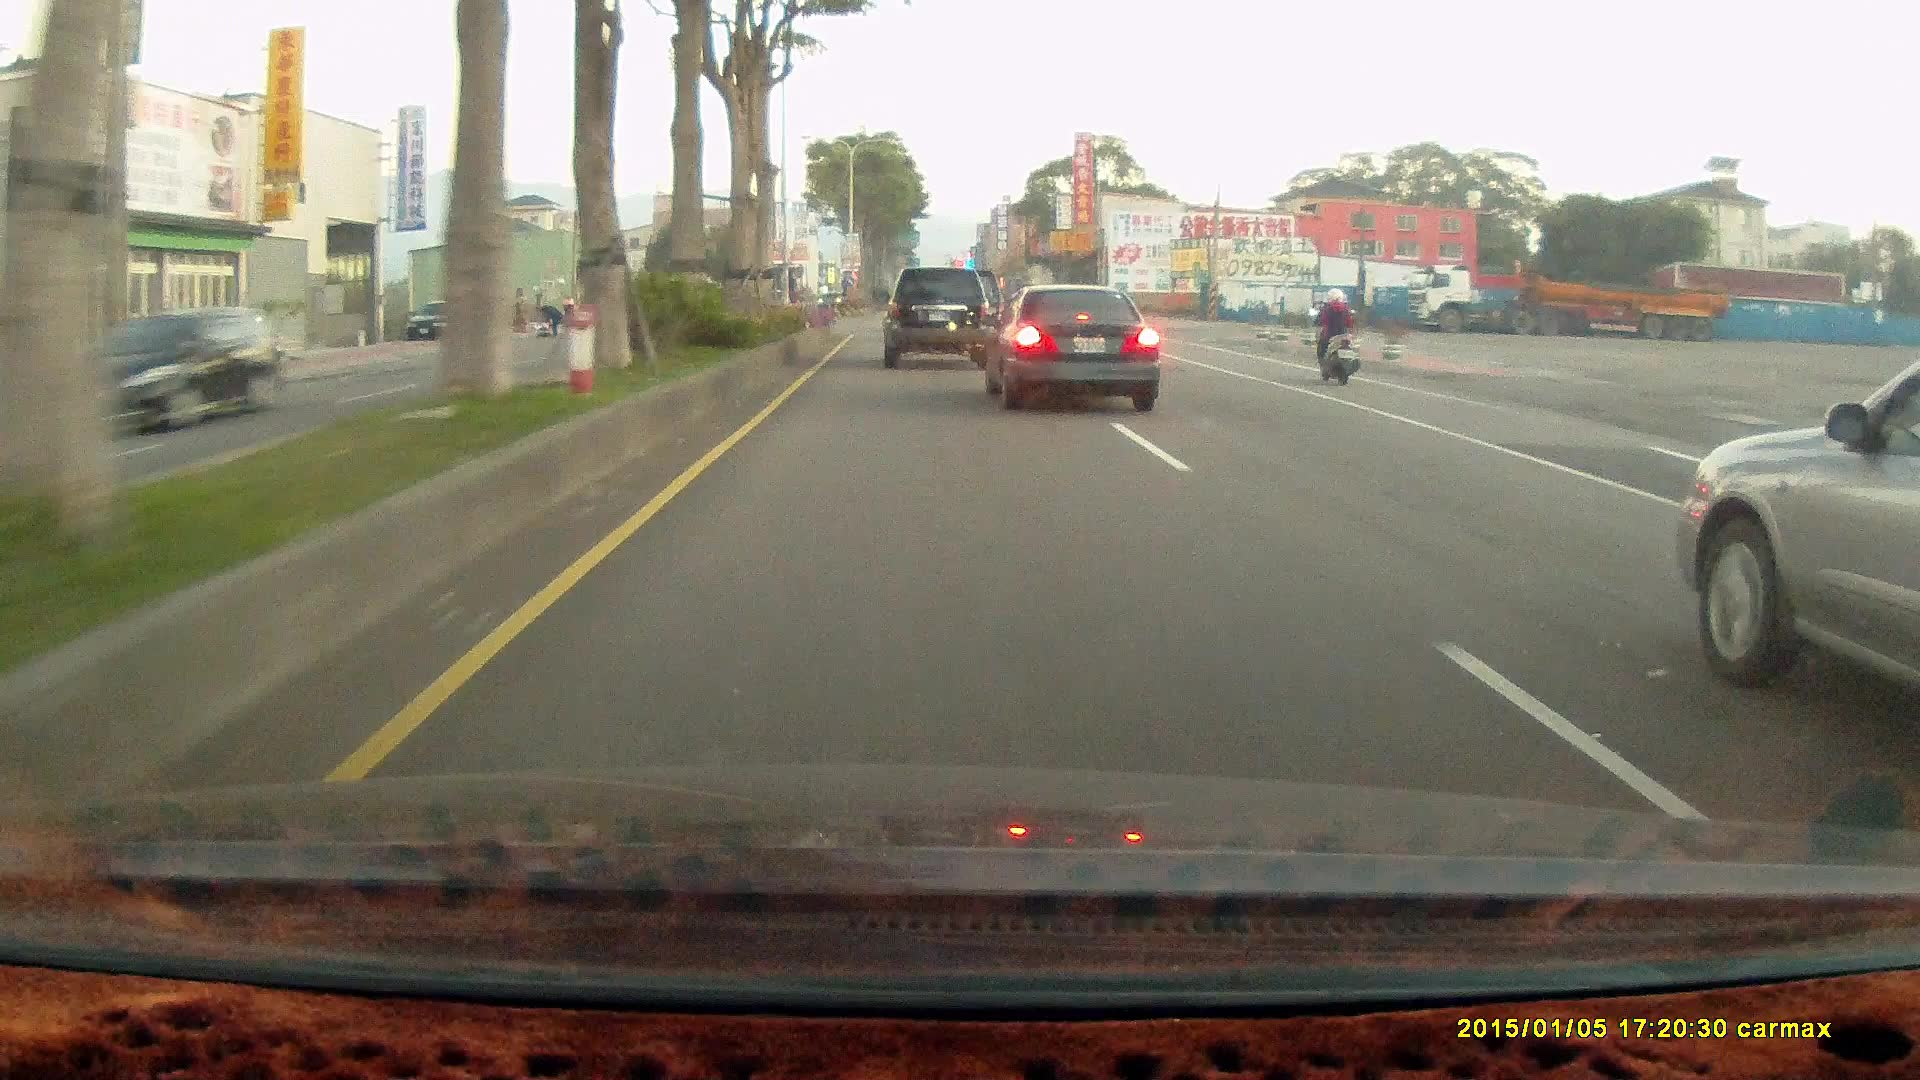pedestrian: (535, 301, 560, 334)
rider: (1300, 283, 1370, 391), (1306, 283, 1360, 383)
vehicle: (1675, 361, 1920, 727), (75, 301, 277, 432), (76, 302, 278, 433), (1402, 264, 1725, 340), (980, 281, 1159, 412), (986, 281, 1161, 408), (880, 262, 1001, 365), (878, 263, 992, 363), (405, 299, 473, 341)
